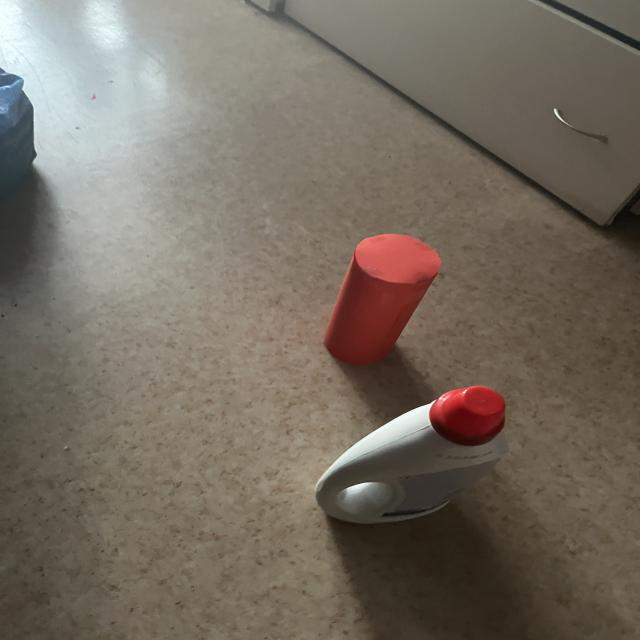przeszkoda: (324, 234, 441, 364)
